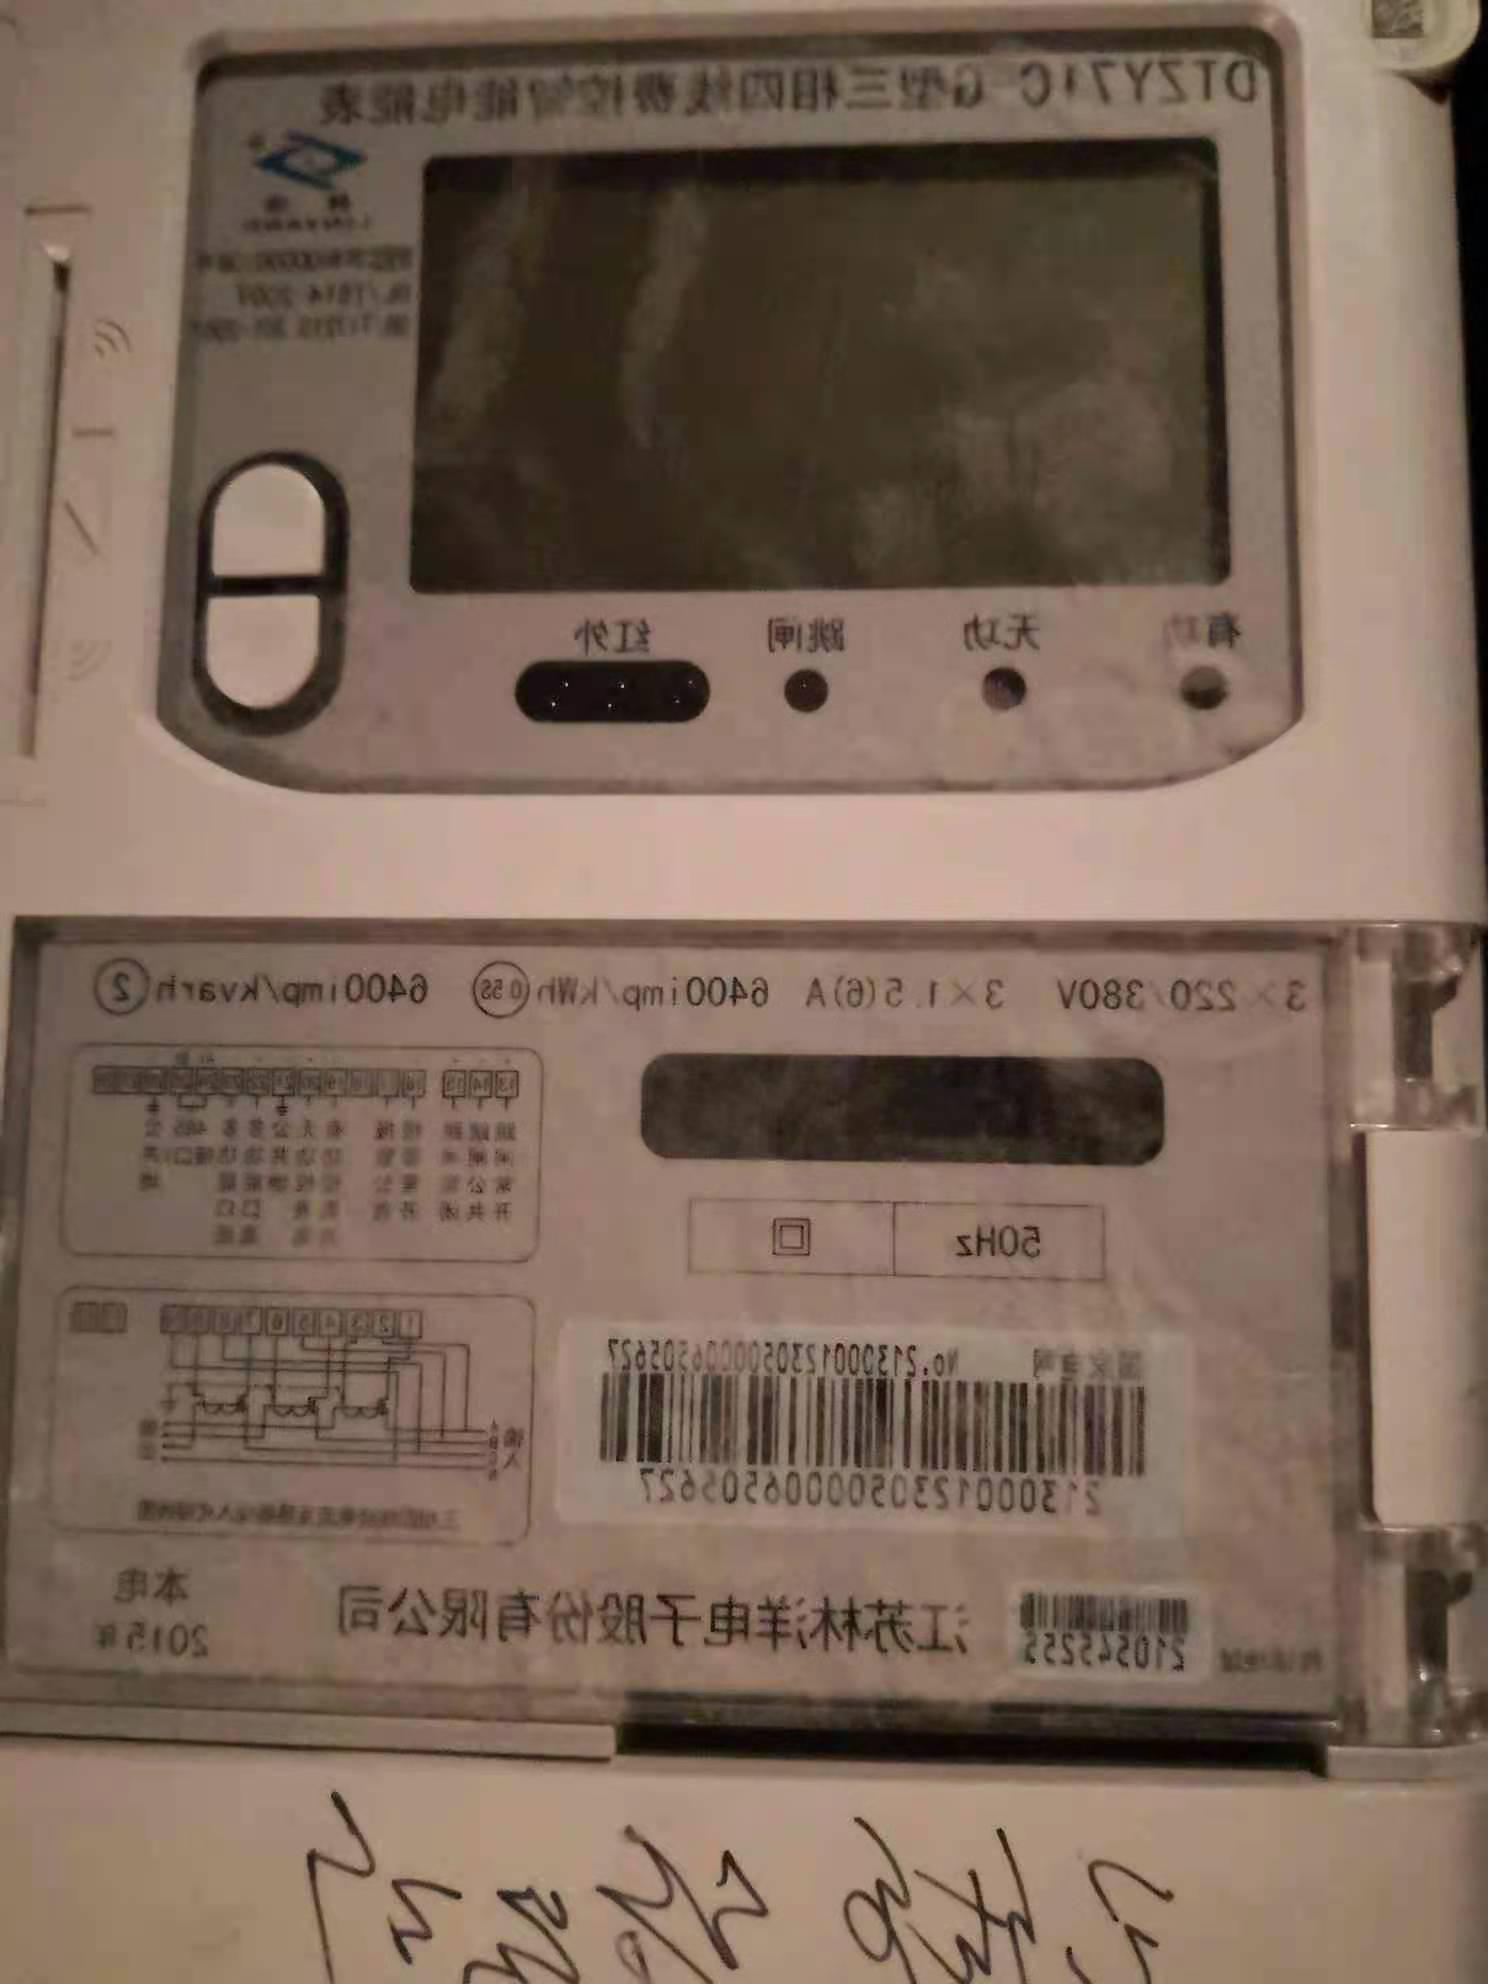digital: (2, 2, 1479, 1778)
